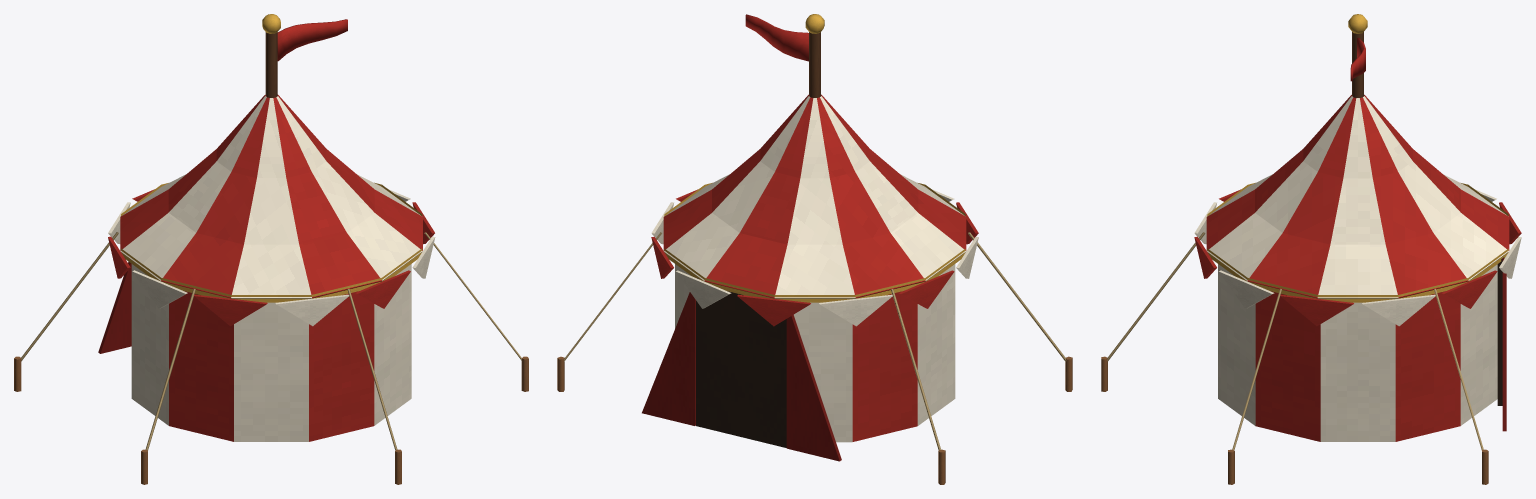
File: tenda_padiglione_piccola.glb
3 views of the same model, side by side, from view 1: azimuth 30°, elevation 25°; view 2: azimuth 150°, elevation 25°; view 3: azimuth 270°, elevation 25° (orthographic).
Visible parts, largest first — view 1: SM_tenda_padiglione_piccola; view 2: SM_tenda_padiglione_piccola; view 3: SM_tenda_padiglione_piccola.
Boxes of the visible parts, left/top/right/bottom form: SM_tenda_padiglione_piccola: left=14, top=14, right=528, bottom=484; SM_tenda_padiglione_piccola: left=557, top=14, right=1072, bottom=484; SM_tenda_padiglione_piccola: left=1101, top=14, right=1521, bottom=484.
Bounding box in the file's own units: 2.62 × 2.43 × 2.46.
Materials: 1 (1 with a texture image).
